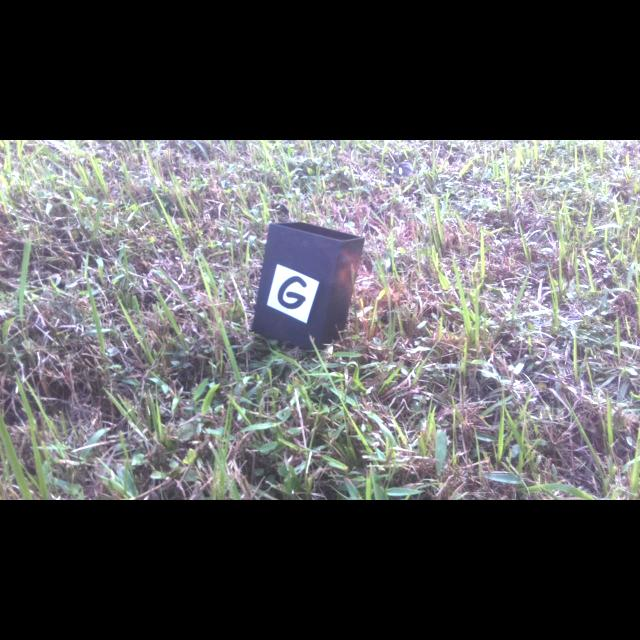G: (278, 276, 307, 309)
